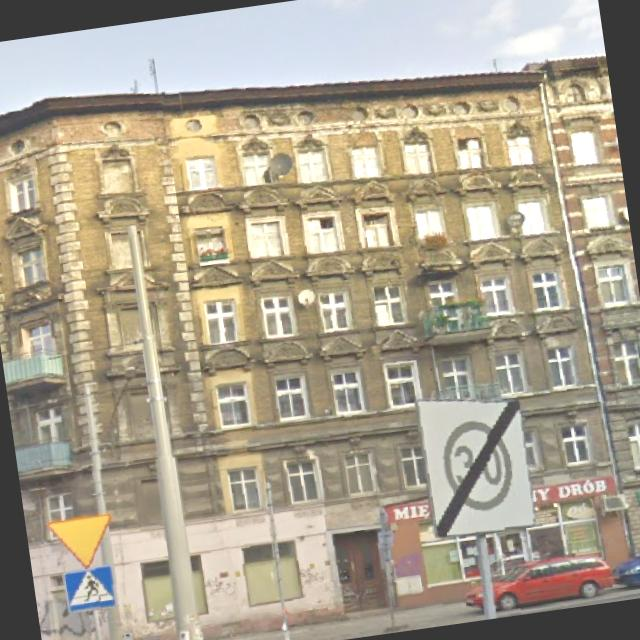Przejscie dla pieszych: (65, 567, 114, 613)
Ustap pierwszenstwa: (46, 512, 115, 573)
